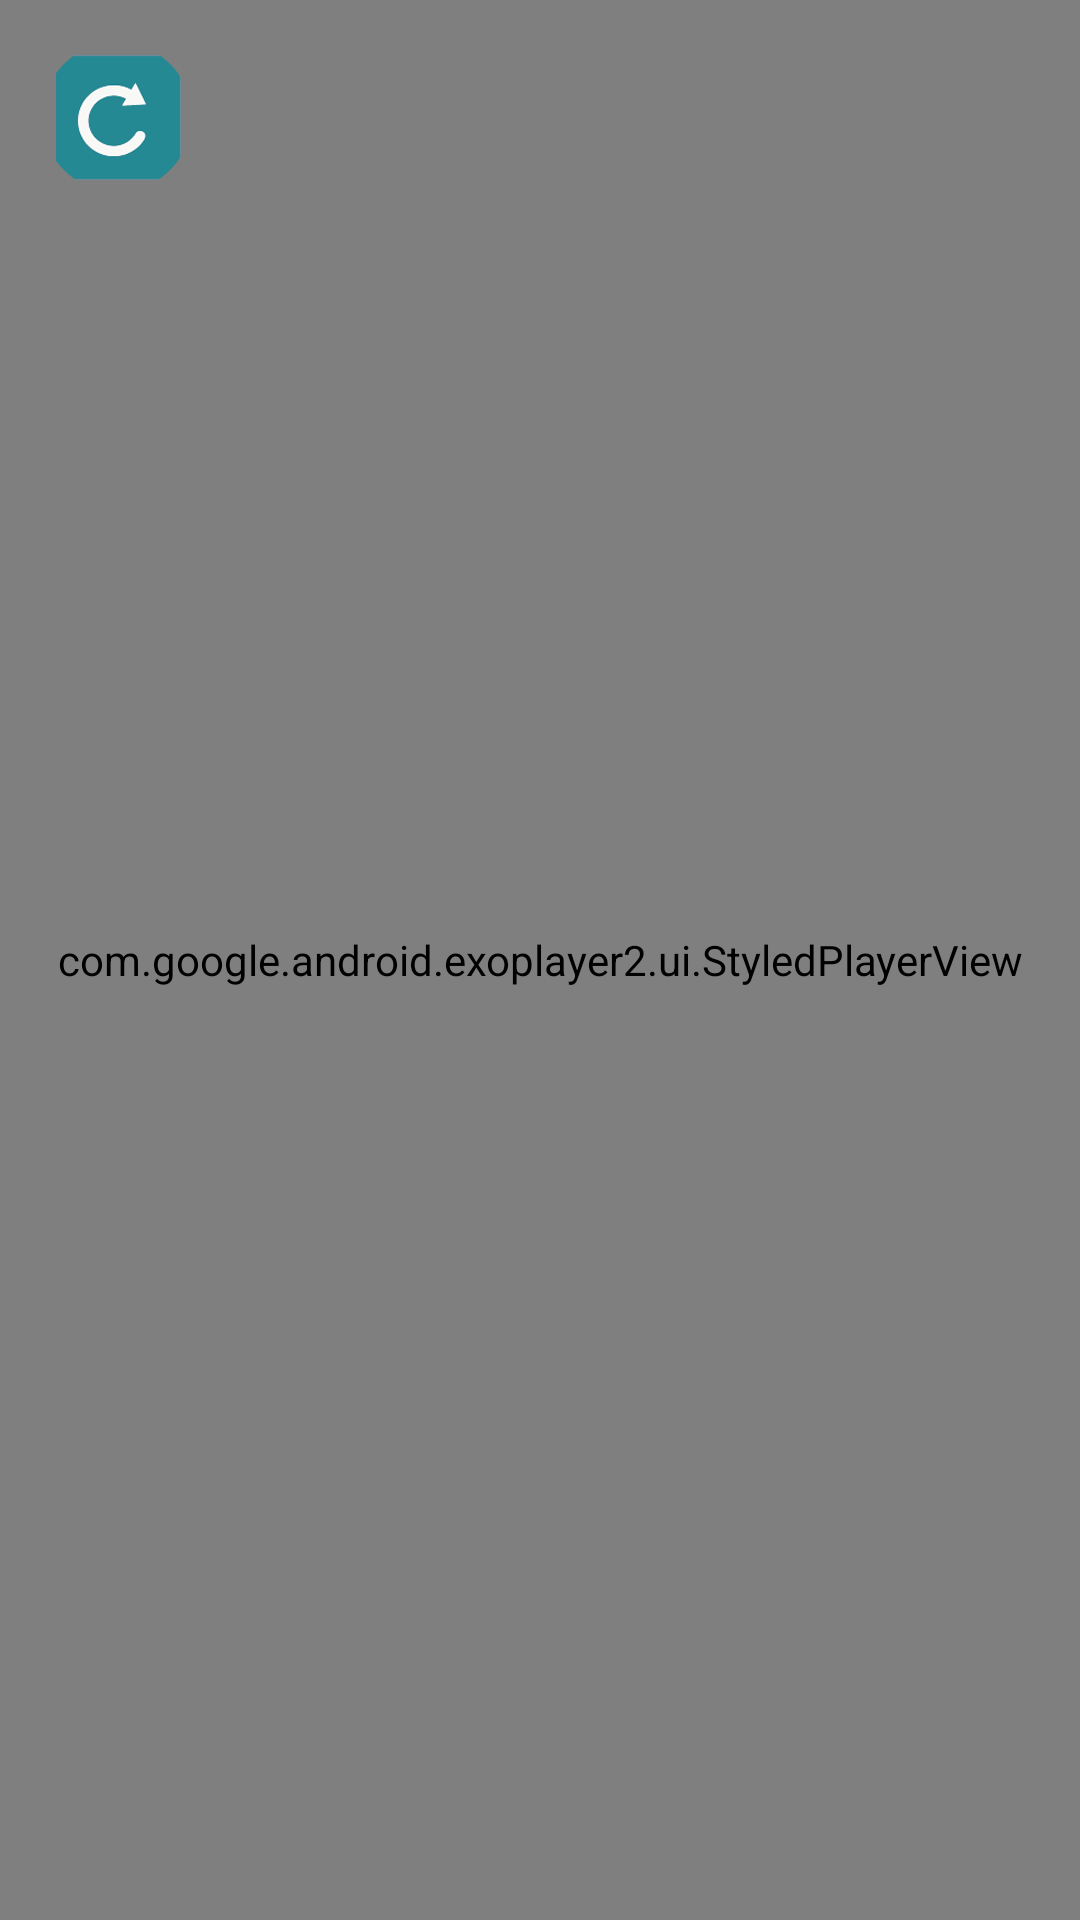

Icon bounding boxes for this 1080x1920 phone screenshot, format (x1, y1, x2, y2):
play return click: (55, 55, 181, 180)
